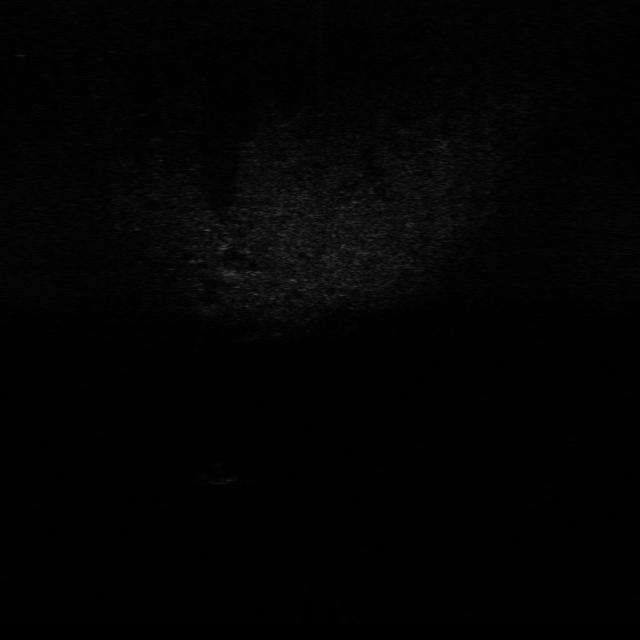ball: (200, 461, 240, 486)
